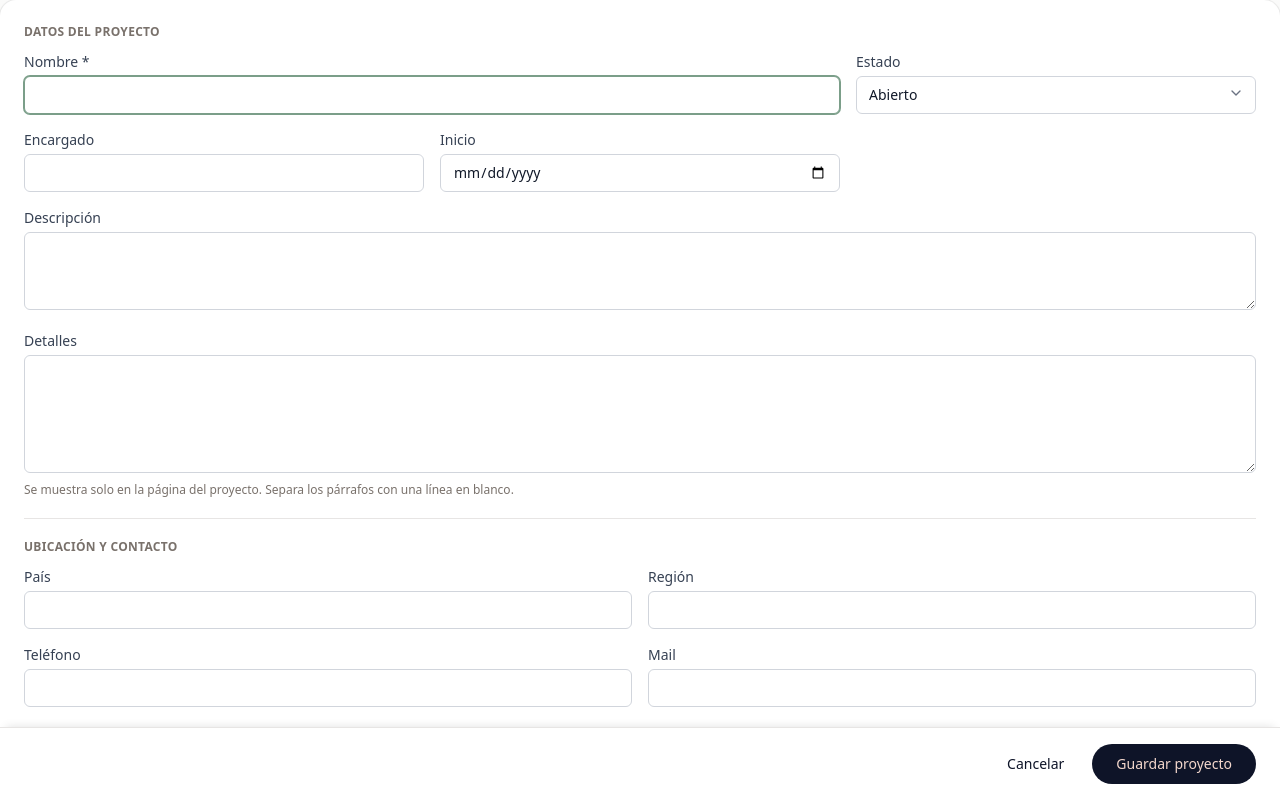
Test case: ProjectForm › validates the mail format but leaves the phone free
Type "Casa" into the field labelled "Nombre *" at (432, 95), box [24,76,840,114]
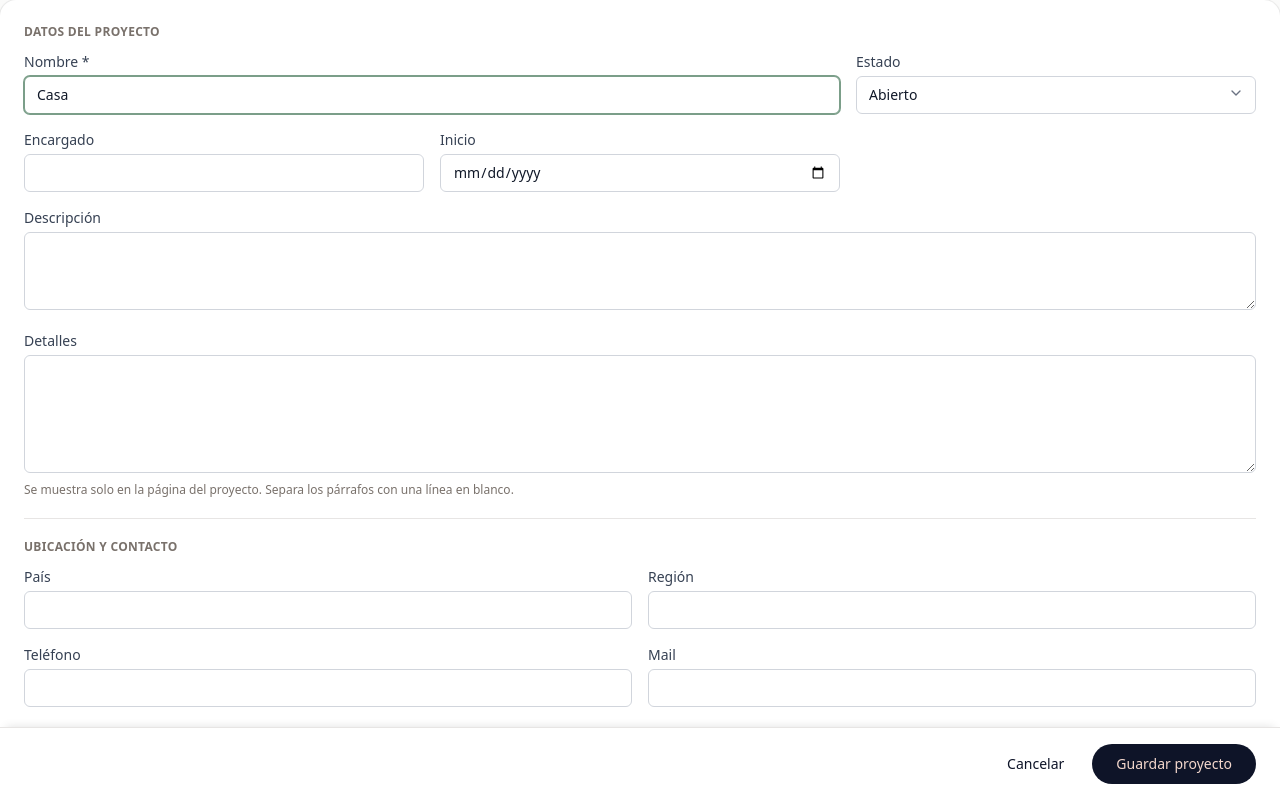
Type "abc 123" into the field labelled "Teléfono" at (328, 688), box [24,669,632,707]
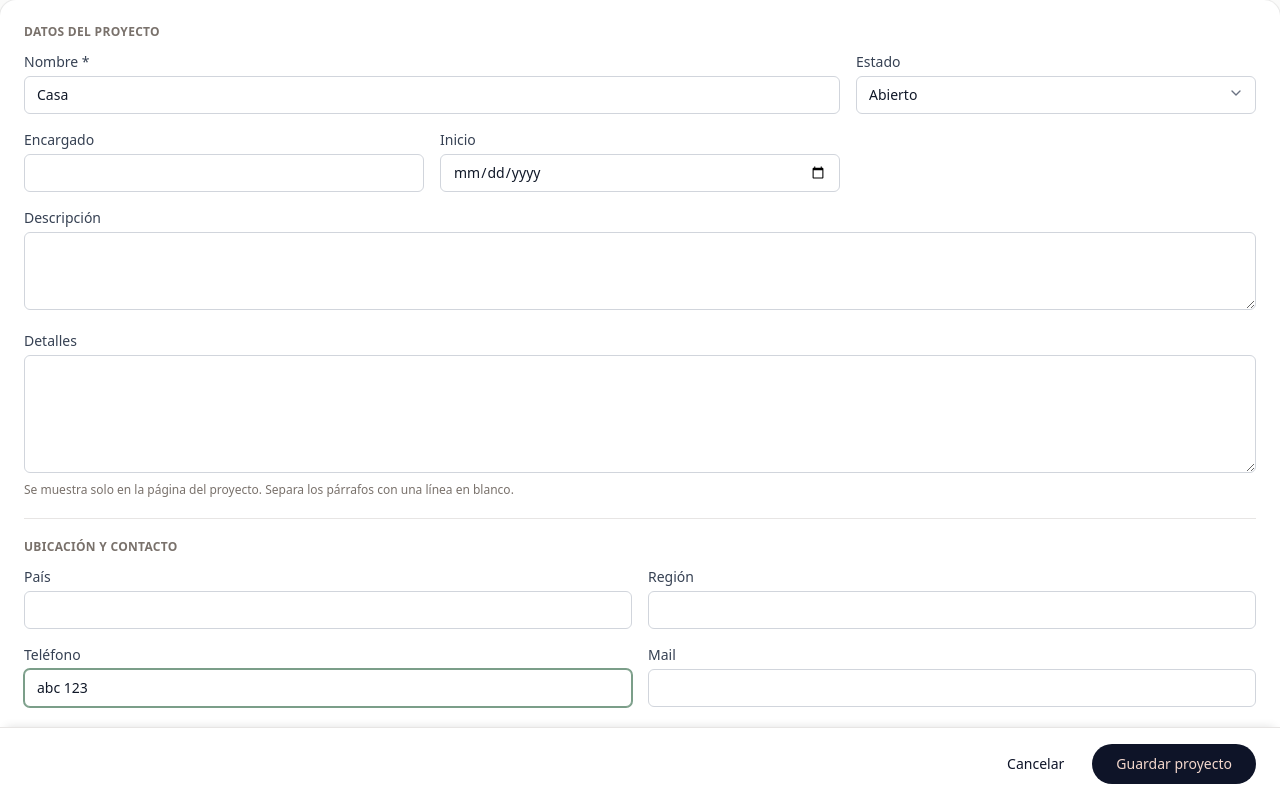
Type "no-es-correo" into the field labelled "Mail" at (952, 688), box [648,669,1256,707]
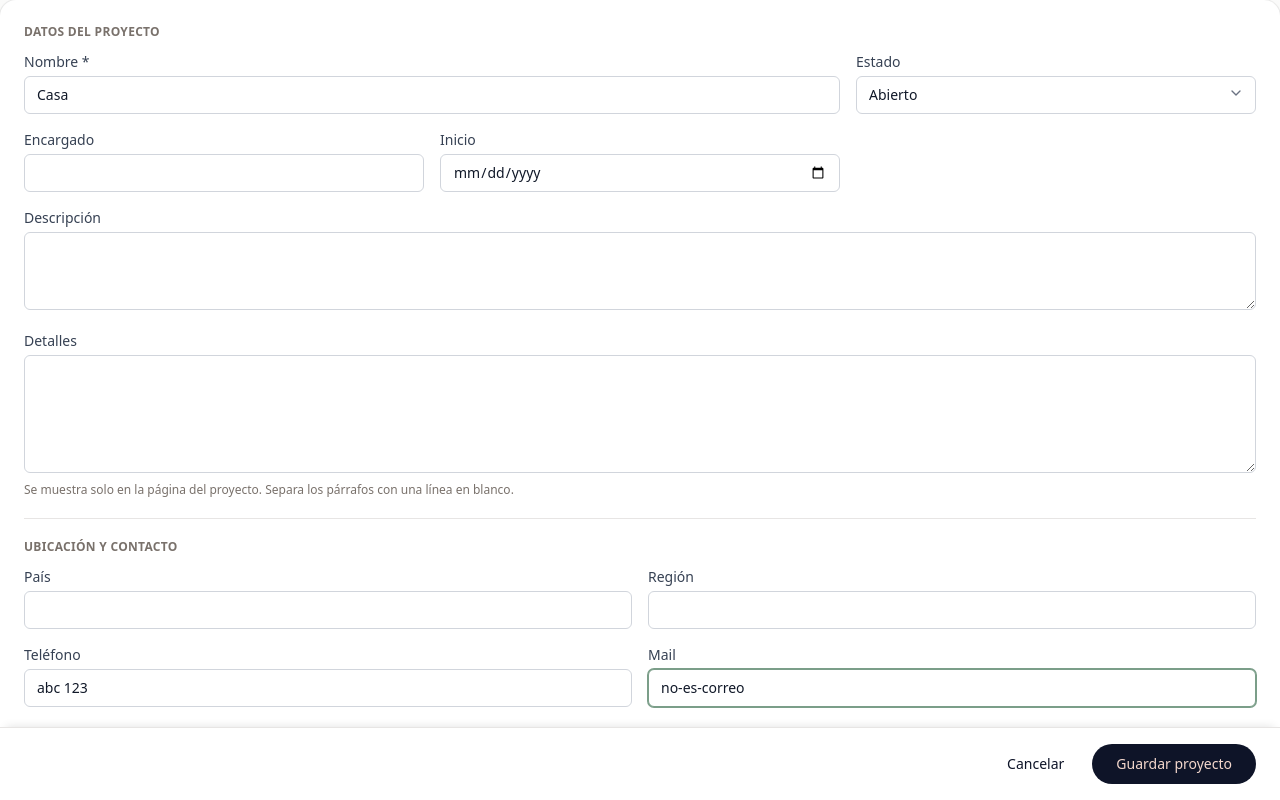
Click the button "Guardar proyecto" at (1174, 764), box [1092,744,1256,784]
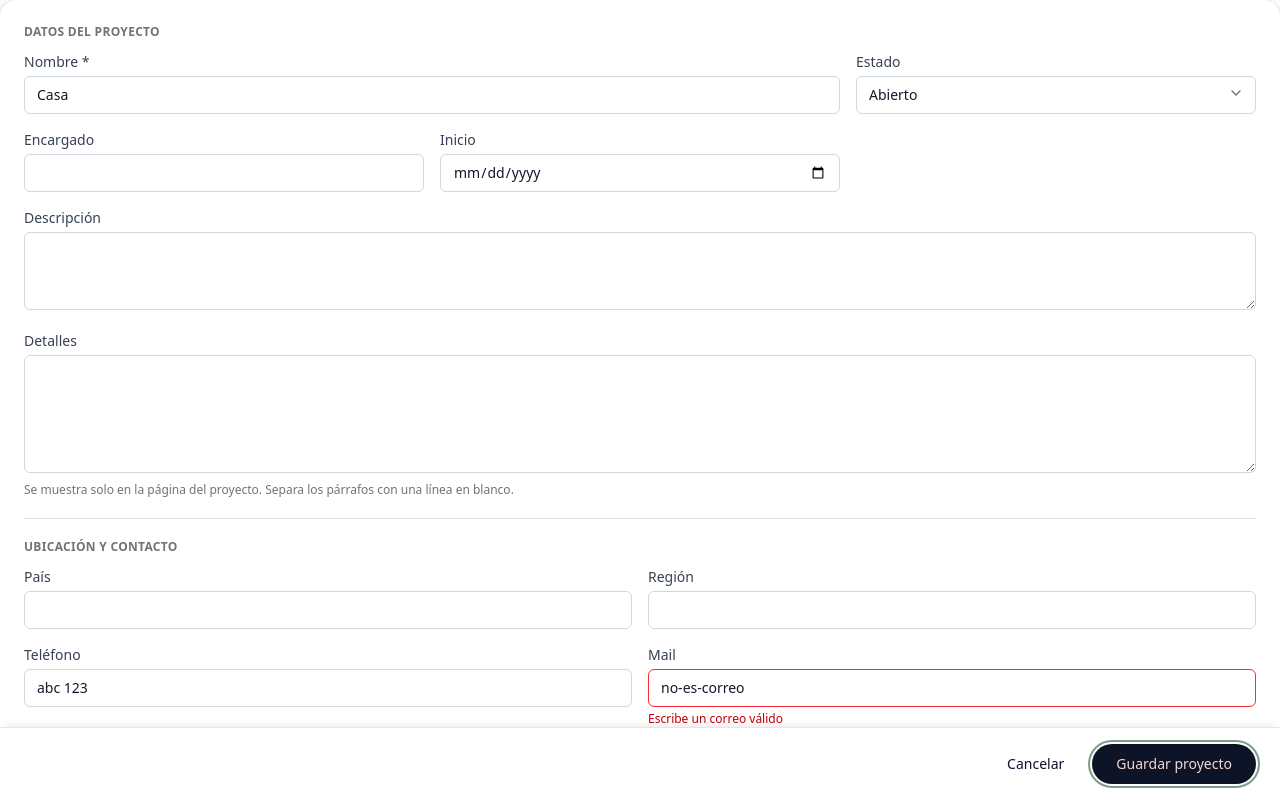
Check: the text "Escribe un correo válido" is shown, box [648,710,783,727]
